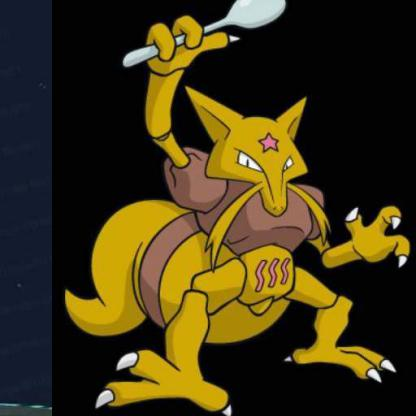Kadabra: (65, 4, 403, 411)
